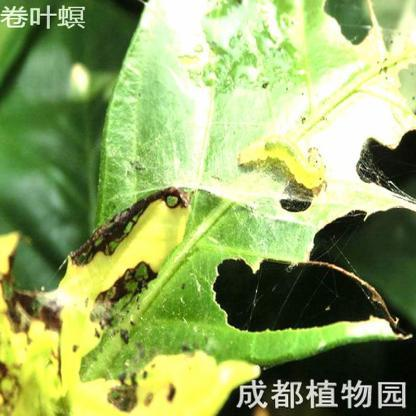leaf-folder: (234, 123, 330, 197)
